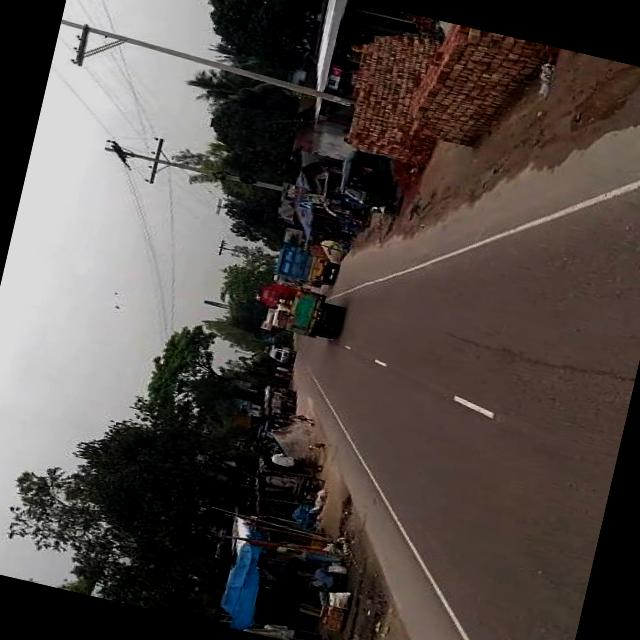bus: (262, 339, 296, 364)
motorcycle: (332, 144, 406, 214), (313, 166, 377, 227), (260, 393, 296, 412), (261, 381, 297, 399), (260, 414, 286, 438), (260, 404, 272, 414)
truck: (270, 282, 348, 341), (271, 244, 338, 288), (256, 279, 296, 310)
